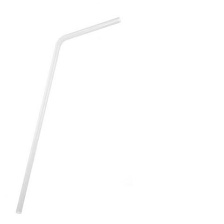drinking_straw: (10, 12, 126, 218)
